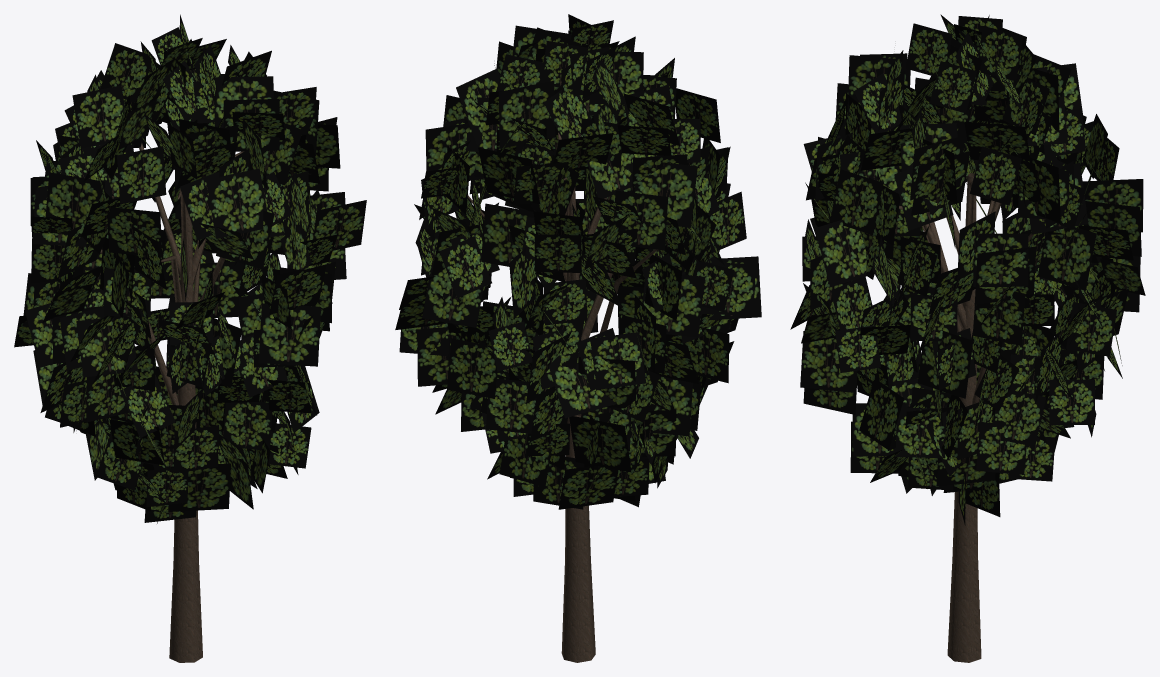
The model's file is tpl_dike_row_dike_poplar_hi.glb.
3 renders of one model, left to right at view 1: azimuth 30°, elevation 25°; view 2: azimuth 150°, elevation 25°; view 3: azimuth 270°, elevation 25°, orthographic. The views are drawn at different scales.
Visible parts, largest first — view 1: tpl_dike_row_dike_poplar_hi; view 2: tpl_dike_row_dike_poplar_hi; view 3: tpl_dike_row_dike_poplar_hi.
Boxes of the visible parts, bbox=[...] form: tpl_dike_row_dike_poplar_hi: bbox=[14, 14, 366, 662]; tpl_dike_row_dike_poplar_hi: bbox=[395, 14, 761, 662]; tpl_dike_row_dike_poplar_hi: bbox=[790, 14, 1145, 662].
Size of the model in its own units: 11.77 by 23.79 by 12.14.
Materials: 2 (2 with a texture image).
